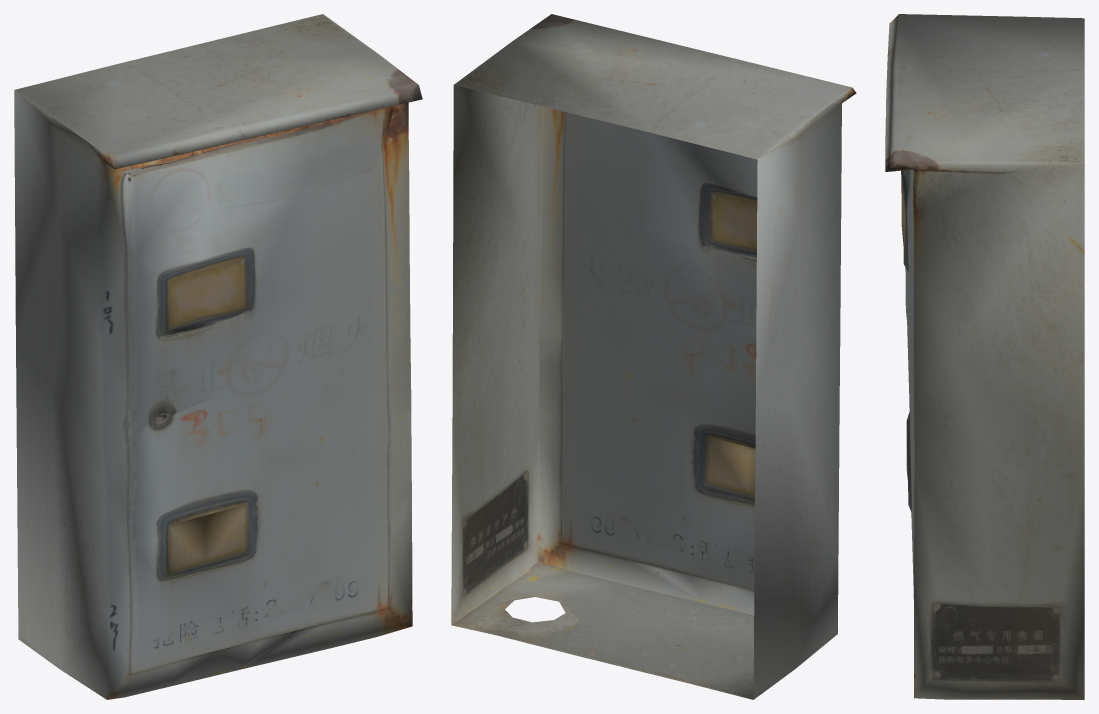
Rendered from Gas Meter Box.fbx.
The picture shows the model from 3 angles, left to right: view 1: azimuth 30°, elevation 25°; view 2: azimuth 150°, elevation 25°; view 3: azimuth 270°, elevation 25°; orthographic projection. The views are drawn at different scales.
Visible parts, largest first — view 1: Gas Meter Box; view 2: Gas Meter Box; view 3: Gas Meter Box.
Boxes of the visible parts, x1,y1,x2,y2 form: Gas Meter Box: [14, 14, 422, 699]; Gas Meter Box: [451, 14, 856, 699]; Gas Meter Box: [885, 14, 1084, 699].
Size of the model in its own units: 55.75 by 93.86 by 31.47.
Materials: 1 (1 with a texture image).
